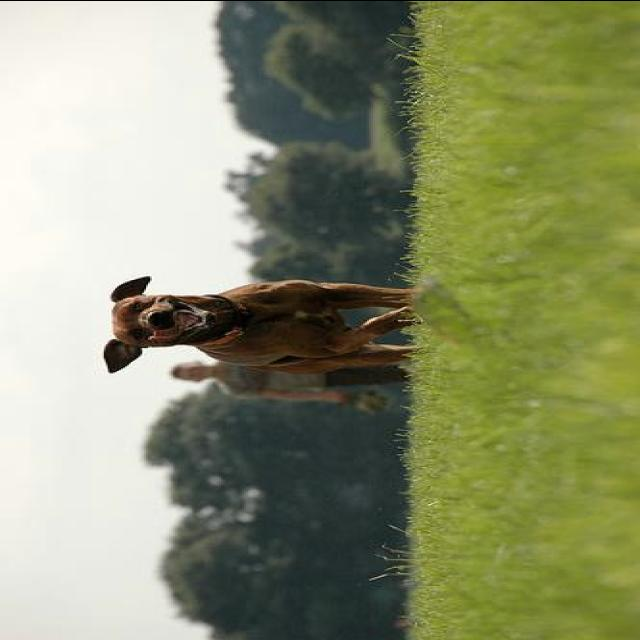rhodesian_ridgeback: (100, 278, 421, 380)
